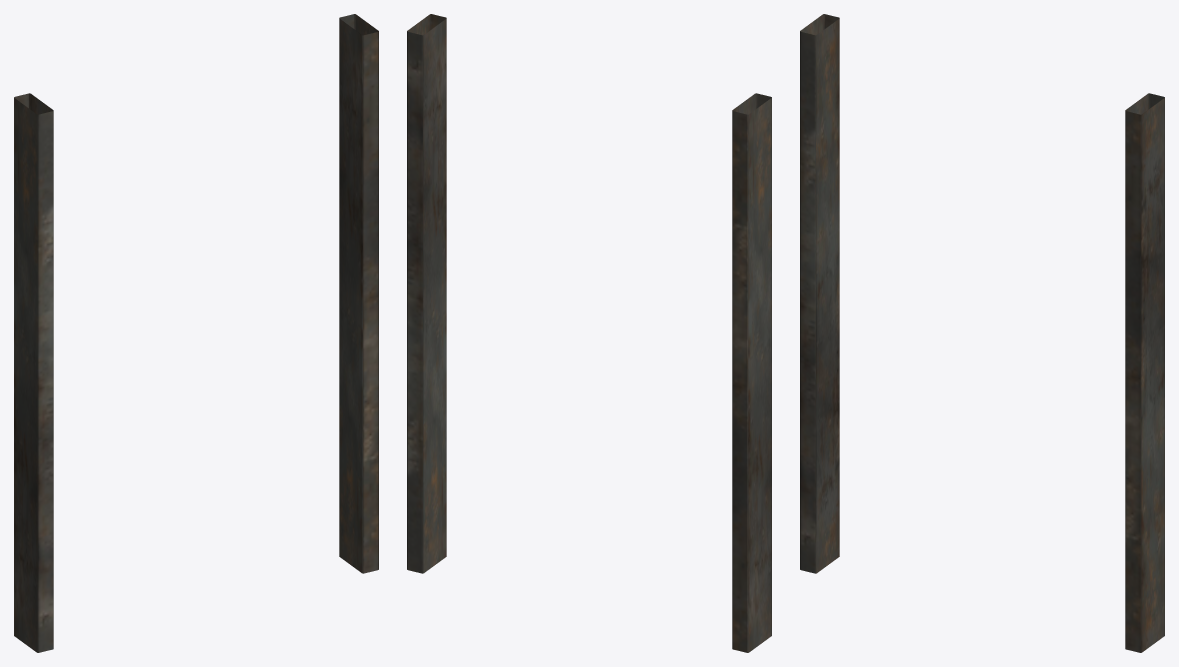
Rendered from wall_006.glb.
The picture shows the model from 3 angles, left to right: view 1: azimuth 30°, elevation 25°; view 2: azimuth 150°, elevation 25°; view 3: azimuth 330°, elevation 25°; orthographic projection.
Parts seen in each view (by area): view 1: Building_12_067; view 2: Building_12_067; view 3: Building_12_067.
Boxes of the visible parts, left/top/right/bottom form: Building_12_067: left=14, top=14, right=378, bottom=652; Building_12_067: left=407, top=14, right=771, bottom=652; Building_12_067: left=800, top=14, right=1164, bottom=652.
Size of the model in its own units: 1.33 by 2 by 0.1627.
Materials: 1 (1 with a texture image).
